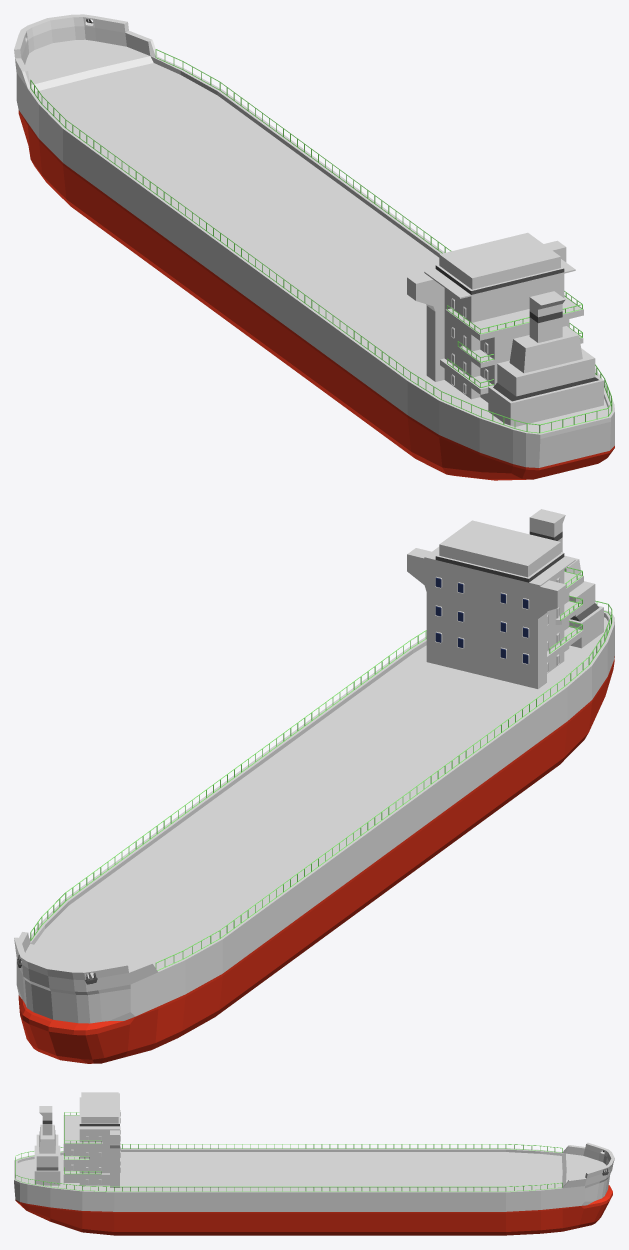
File: uploads_files_2784016_CargoShip_01.fbx
3 views of the same model, one above another, from view 1: azimuth 30°, elevation 25°; view 2: azimuth 150°, elevation 25°; view 3: azimuth 270°, elevation 25° (orthographic). The views are drawn at different scales.
Visible parts, largest first — view 1: ContainerShip; view 2: ContainerShip; view 3: ContainerShip.
Part boxes in pixels (bbox=[...]): ContainerShip: bbox=[14, 14, 614, 480]; ContainerShip: bbox=[14, 509, 614, 1063]; ContainerShip: bbox=[14, 1092, 614, 1235].
Bounding box in the file's own units: 371 × 440 × 2128.
